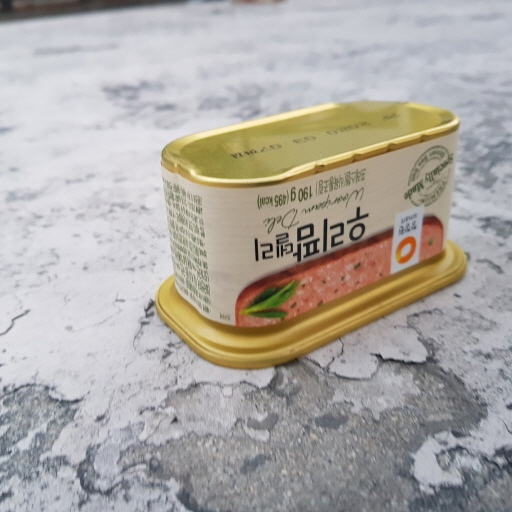Metal_2: (150, 97, 470, 365)
